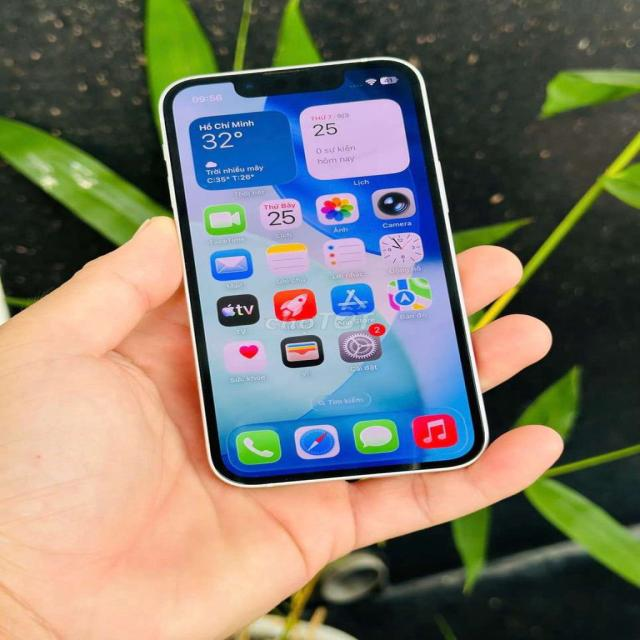gen_12_13: (160, 53, 495, 490)
